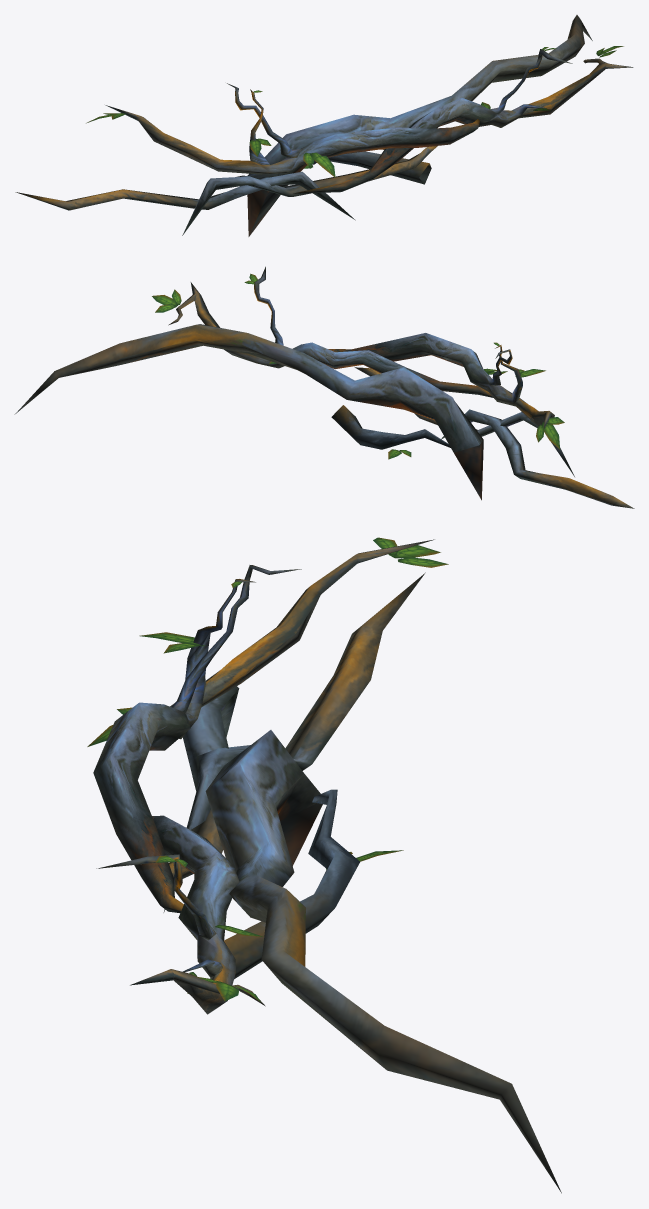
Rendered from fb_qingqs_zj_04_b.FBX.
3 renders of one model, top to bottom at view 1: azimuth 30°, elevation 25°; view 2: azimuth 150°, elevation 25°; view 3: azimuth 270°, elevation 25°, orthographic. The views are drawn at different scales.
Parts seen in each view (by area): view 1: Object001; view 2: Object001; view 3: Object001.
Part boxes in pixels (box(x1,y1,x2,y2)): Object001: box(15, 15, 633, 236); Object001: box(14, 266, 634, 508); Object001: box(87, 537, 561, 1193).
Size of the model in its own units: 2084 by 509 by 732.
